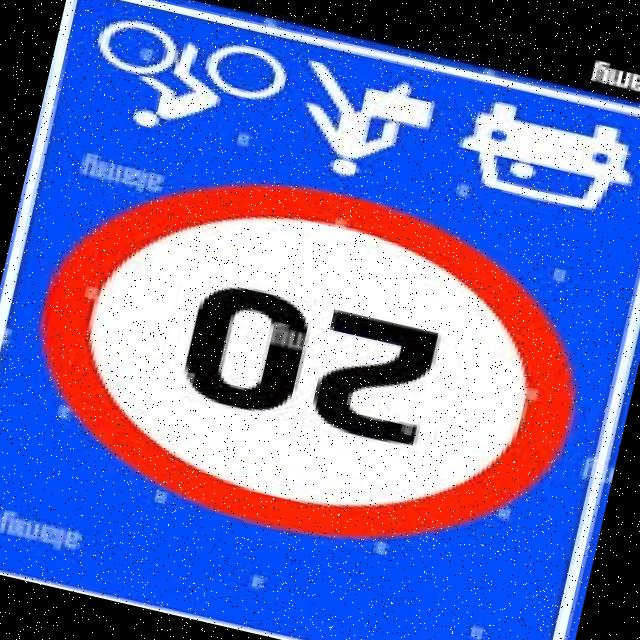speed_limit_20: (2, 128, 620, 599)
